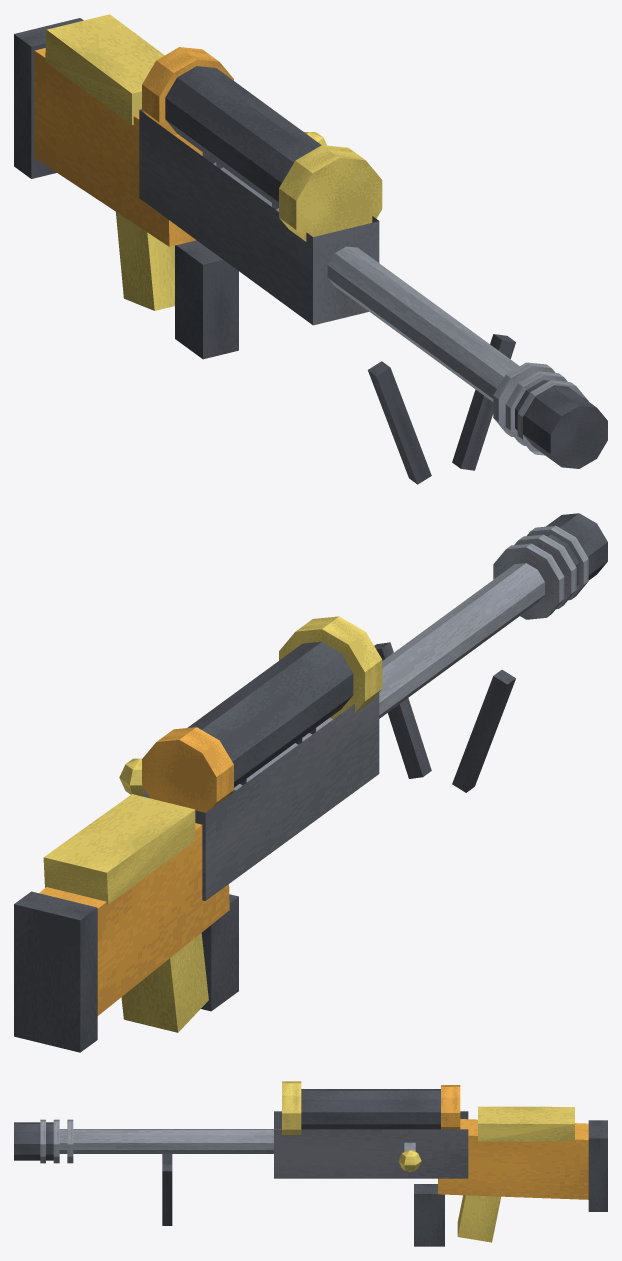
File: weapon_sniper.glb
3 renders of one model, top to bottom at view 1: azimuth 30°, elevation 25°; view 2: azimuth 150°, elevation 25°; view 3: azimuth 270°, elevation 25°, orthographic. The views are drawn at different scales.
Parts seen in each view (by area): view 1: weapon_sniper; view 2: weapon_sniper; view 3: weapon_sniper.
Part boxes in pixels (x1,y1,x2,y2): weapon_sniper: (14,14,607,484); weapon_sniper: (14,513,607,1052); weapon_sniper: (14,1081,607,1246).
Size of the model in its own units: 0.564 by 0.9 by 3.06.
1 material, 1 textured.
